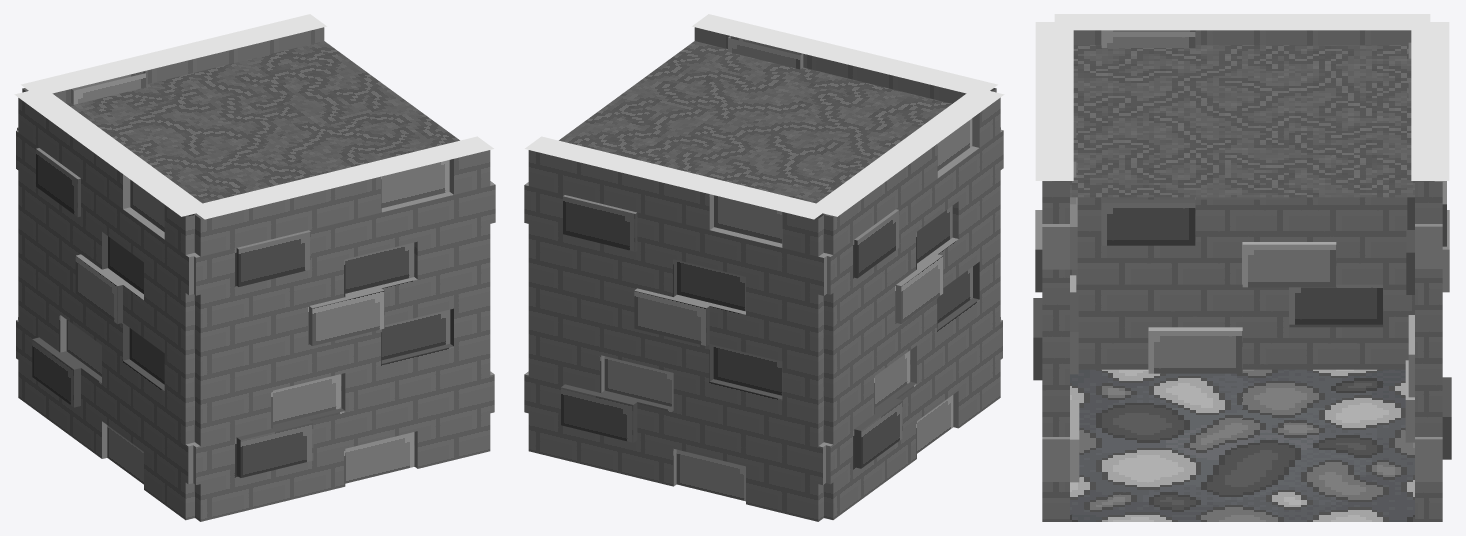
3 renders of one model, left to right at view 1: azimuth 30°, elevation 25°; view 2: azimuth 150°, elevation 25°; view 3: azimuth 270°, elevation 25°, orthographic. The views are drawn at different scales.
Parts seen in each view (by area): view 1: 3W-col; view 2: 3W-col; view 3: 3W-col.
Boxes of the visible parts, <box> form: 3W-col: <box>14,14,495,521</box>; 3W-col: <box>524,14,1004,521</box>; 3W-col: <box>1033,14,1451,521</box>.
Size of the model in its own units: 2.15 by 2.01 by 2.23.
4 materials, 3 textured.
